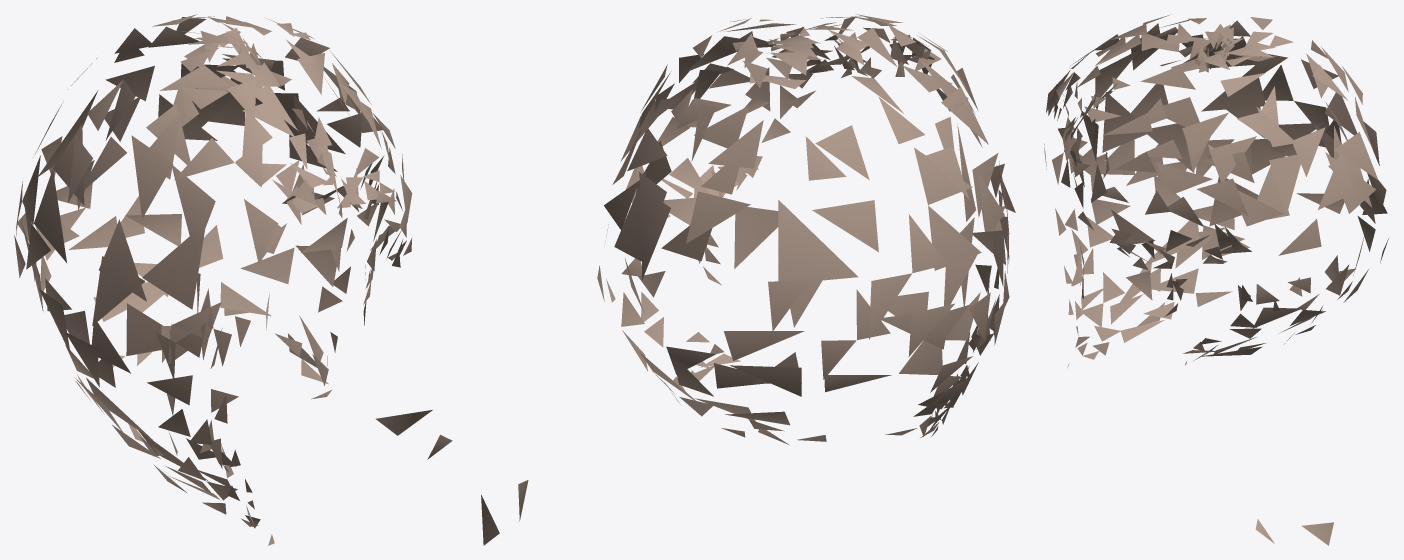
File: female_hair_03_lod2.glb
3 views of the same model, side by side, from view 1: azimuth 30°, elevation 25°; view 2: azimuth 150°, elevation 25°; view 3: azimuth 270°, elevation 25° (orthographic). The views are drawn at different scales.
Visible parts, largest first — view 1: female-hair-03; view 2: female-hair-03; view 3: female-hair-03.
Boxes of the visible parts, bbox=[...] form: female-hair-03: bbox=[14, 14, 452, 545]; female-hair-03: bbox=[481, 14, 1015, 545]; female-hair-03: bbox=[1044, 14, 1388, 545].
Size of the model in its own units: 0.2645 by 0.2972 by 0.2208.
